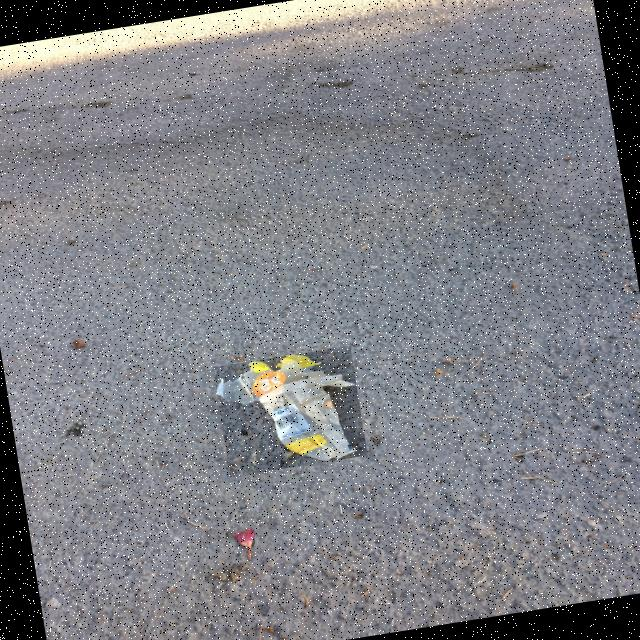Plastic film: (217, 356, 357, 462)
